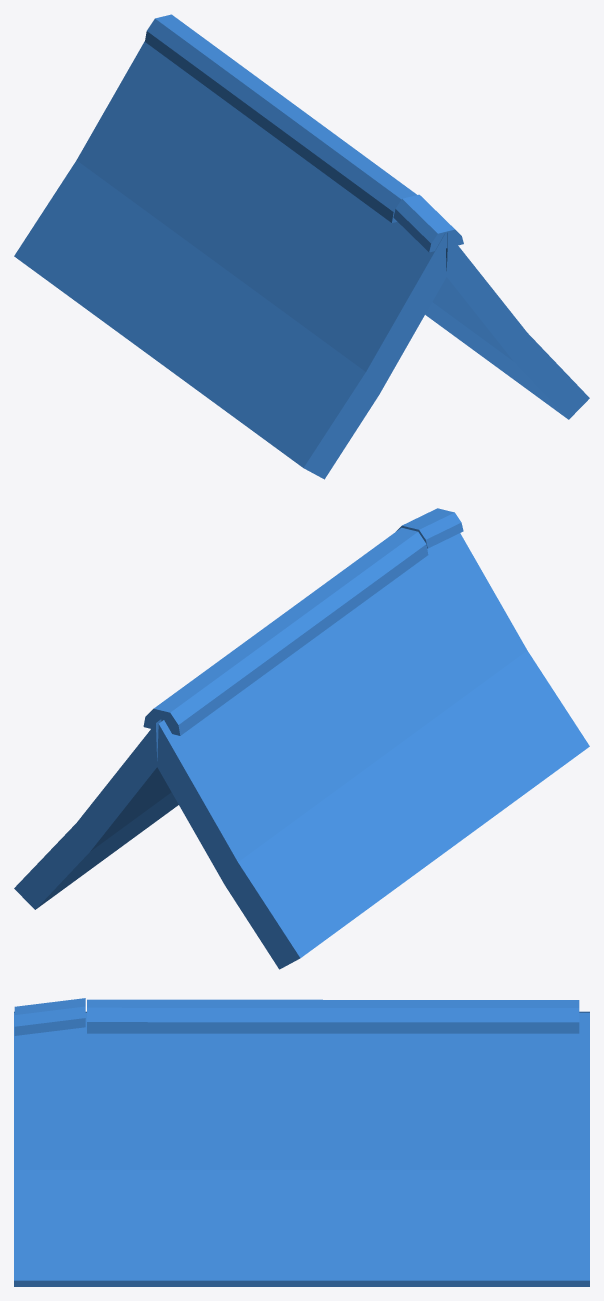
Rendered from Collision_Roof_RoundTiles_4x8.fbx.
The picture shows the model from 3 angles, top to bottom: view 1: azimuth 30°, elevation 25°; view 2: azimuth 150°, elevation 25°; view 3: azimuth 270°, elevation 25°; orthographic projection.
Visible parts, largest first — view 1: UCX_Roof_RoundTiles_4x8_01; view 2: UCX_Roof_RoundTiles_4x8_01; view 3: UCX_Roof_RoundTiles_4x8_01.
Part boxes in pixels (box(x1,y1,x2,y2)): UCX_Roof_RoundTiles_4x8_01: box(14, 14, 589, 479); UCX_Roof_RoundTiles_4x8_01: box(14, 508, 589, 969); UCX_Roof_RoundTiles_4x8_01: box(14, 998, 589, 1286).
Bounding box in the file's own units: 555 × 420 × 971.
